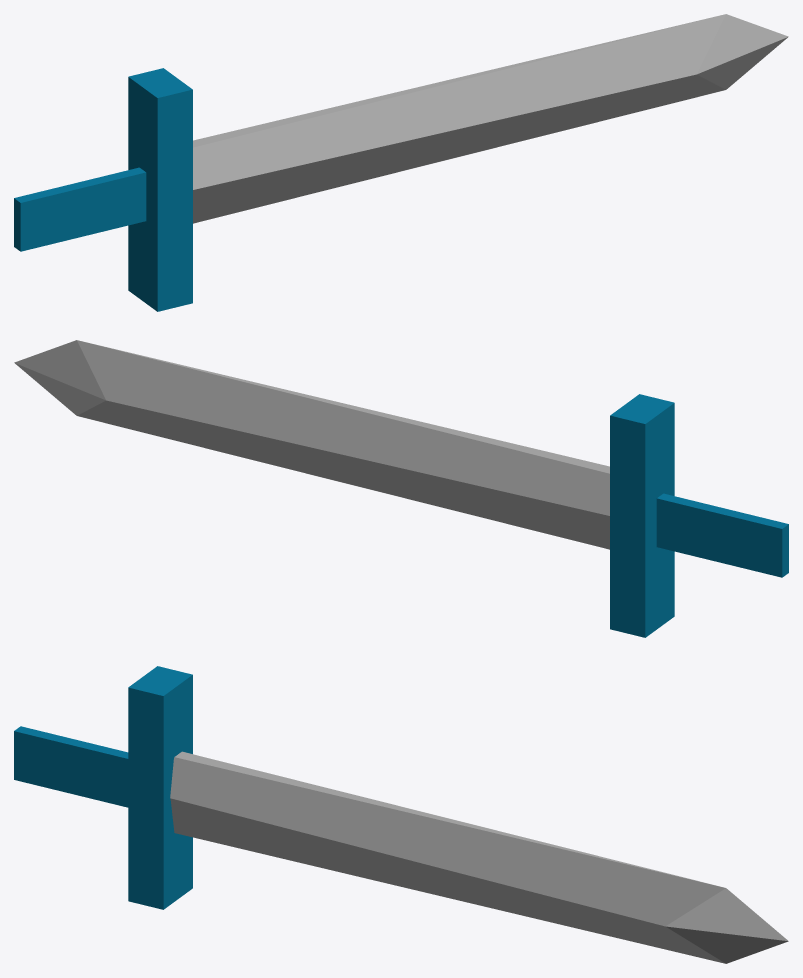
File: BlueSword.fbx
3 views of the same model, one above another, from view 1: azimuth 30°, elevation 25°; view 2: azimuth 150°, elevation 25°; view 3: azimuth 330°, elevation 25° (orthographic).
Parts seen in each view (by area): view 1: Cube.014; view 2: Cube.014; view 3: Cube.014.
Part boxes in pixels (<box>): Cube.014: <box>14,14,788,311</box>; Cube.014: <box>14,340,788,637</box>; Cube.014: <box>14,666,788,963</box>.
Size of the model in its own units: 61.47 by 16.27 by 4.33.
